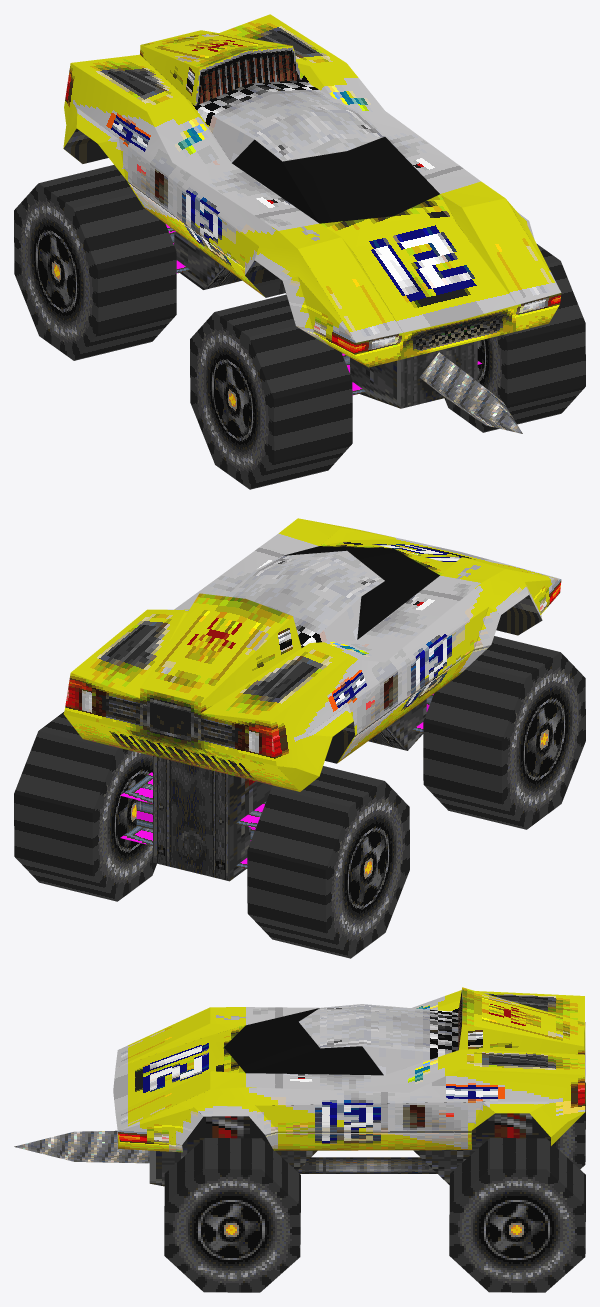
The picture shows the model from 3 angles, top to bottom: view 1: azimuth 30°, elevation 25°; view 2: azimuth 150°, elevation 25°; view 3: azimuth 270°, elevation 25°; orthographic projection. The views are drawn at different scales.
Visible parts, largest first — view 1: SCREWIE.DAT, SCWHEEL.DAT (×3), SPIKEBIT.DAT; view 2: SCREWIE.DAT, SCWHEEL.DAT (×3), SCSUS.DAT; view 3: SCREWIE.DAT, SCWHEEL.DAT (×3), SPIKEBIT.DAT.
Part boxes in pixels (<box>): SCREWIE.DAT: <box>63,14,561,408</box>; SCWHEEL.DAT (×3): <box>14,165,585,489</box>; SPIKEBIT.DAT: <box>419,352,522,433</box>; SCREWIE.DAT: <box>63,518,561,881</box>; SCWHEEL.DAT (×3): <box>14,636,585,958</box>; SCSUS.DAT: <box>120,772,152,845</box>; SCREWIE.DAT: <box>113,987,585,1186</box>; SCWHEEL.DAT (×3): <box>164,1082,585,1292</box>; SPIKEBIT.DAT: <box>14,1130,149,1163</box>.
Bounding box in the file's own units: 3.02 × 2.63 × 5.92.
15 materials, 14 textured.
